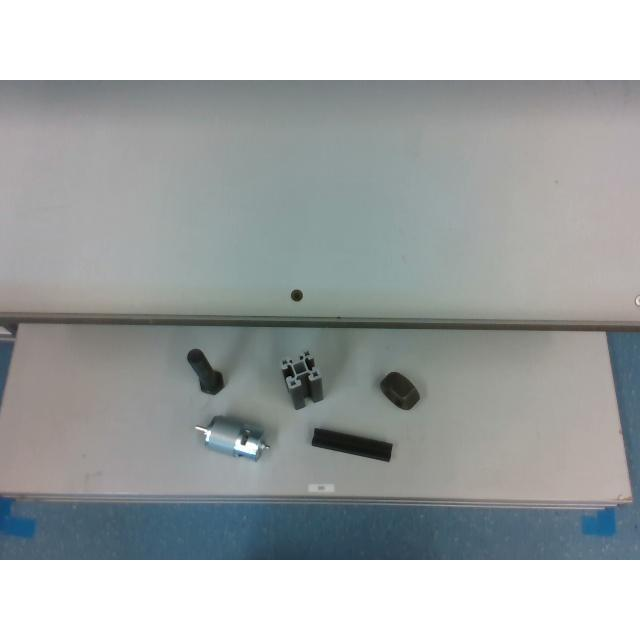M20_100: (188, 349, 225, 395)
M30: (380, 370, 420, 410)
Motor2: (195, 416, 267, 460)
S40_40_B: (312, 428, 392, 460), (281, 350, 323, 410)
